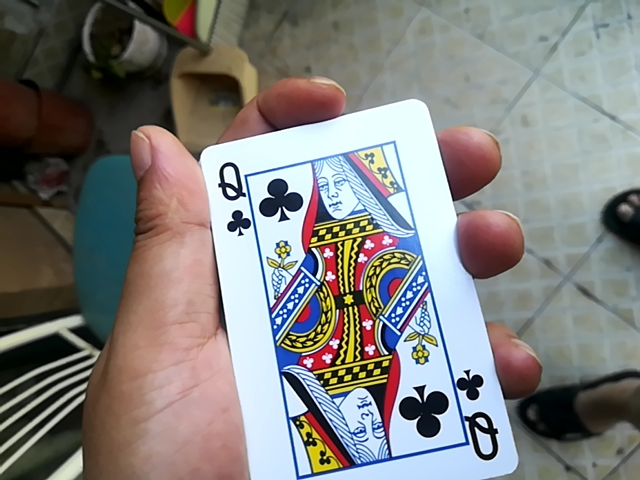mh q: (181, 93, 493, 479)
